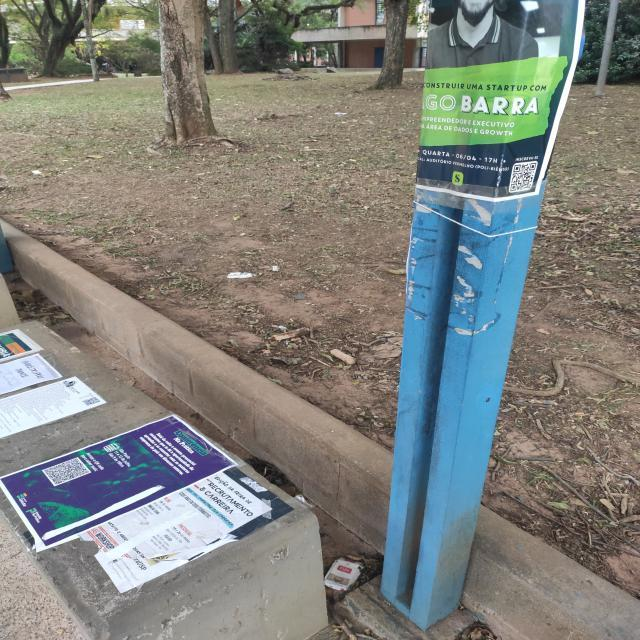qr_code: (44, 458, 89, 485), (511, 163, 536, 191)
